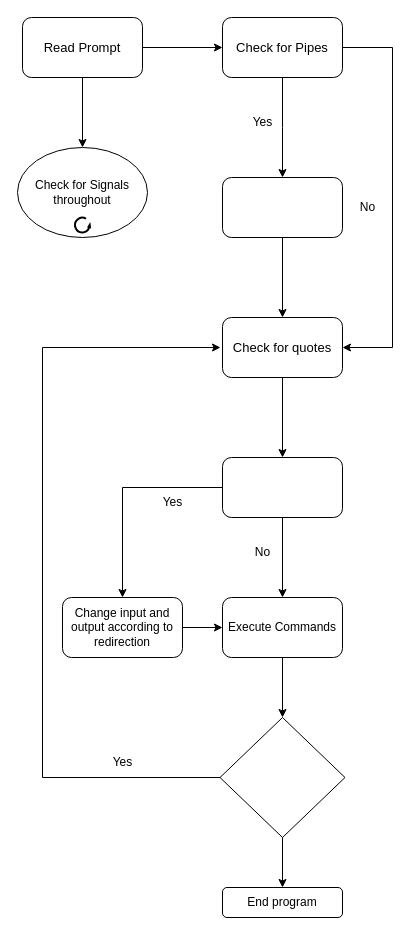
Some shapes in this 418 by 935 pixel diagram are drawn without their labels. Here are the shapes that lost their labels. From the top down, the centre of each, then its label:
At point 282,207: "Split prompt by | character".
At point 282,487: "Check for Redirections".
At point 282,777: "Are there any pipes left?".
